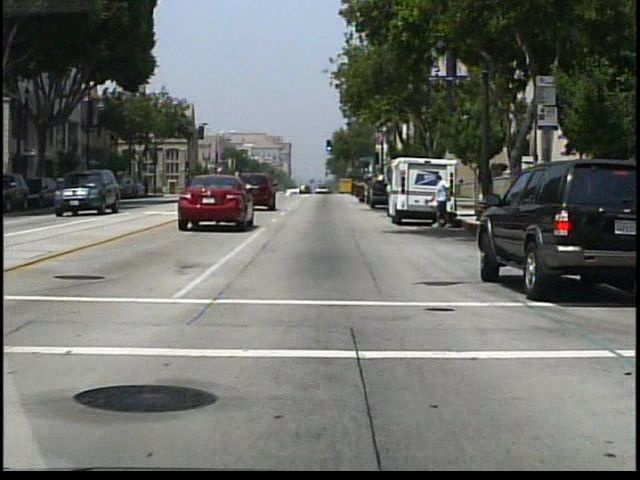person: (427, 174, 460, 231), (355, 173, 372, 208)
